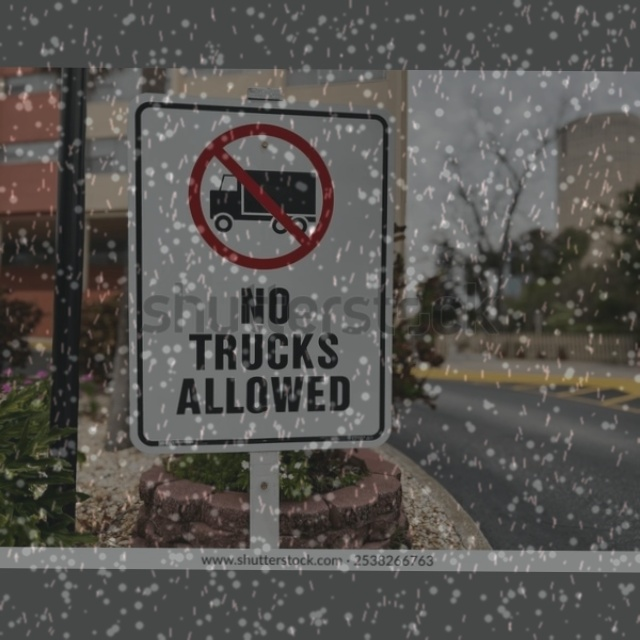Truck_Prohibited: (182, 114, 351, 279)
